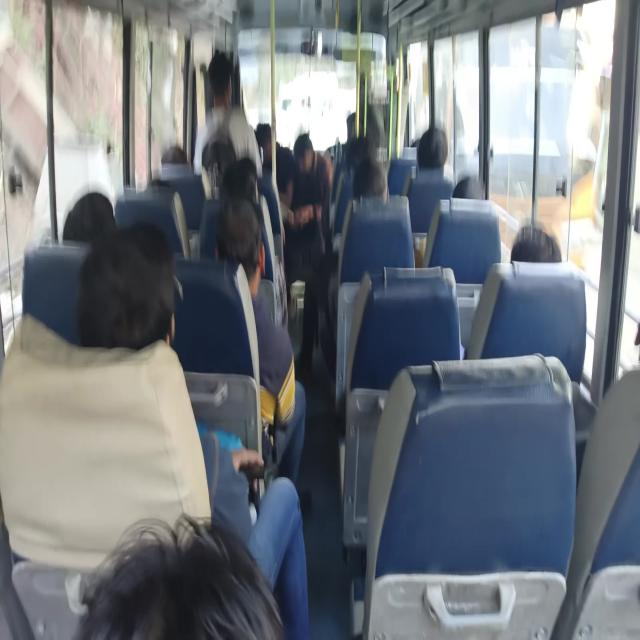person: (85, 254, 186, 354)
